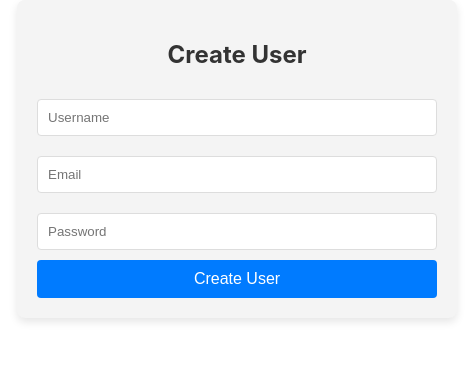
Test: UserForm Component › handles errors during save
Type "Bob" into the field with placeholder "Username" at (237, 117), box 37,99 -> 437,136
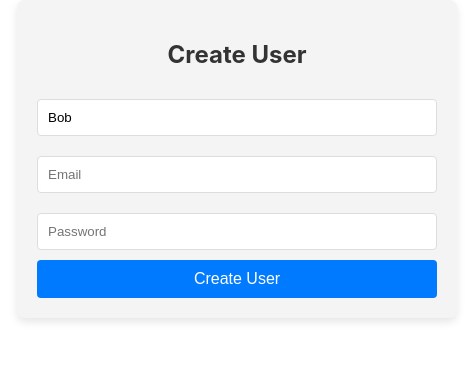
Type "bob@example.com" into the field with placeholder "Email" at (237, 174), box 37,156 -> 437,193
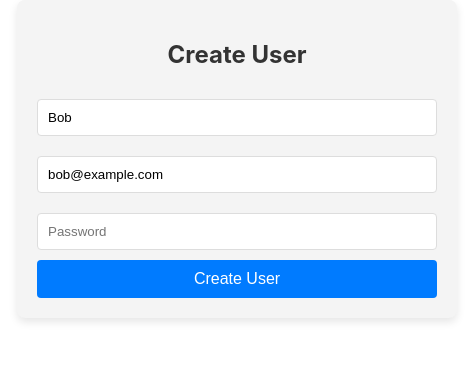
Type "password123" into the password field with placeholder "Password" at (237, 231), box 37,213 -> 437,250
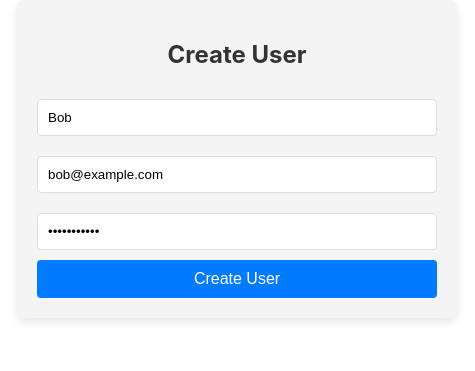
Click the button "Create User" at (237, 279), box 37,260 -> 437,298
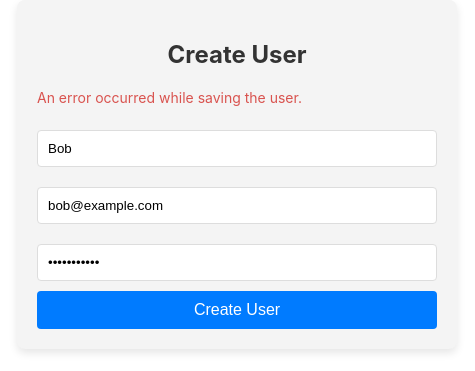
Result: the text "An error occurred while saving the user." is shown at 37,89 -> 302,106
